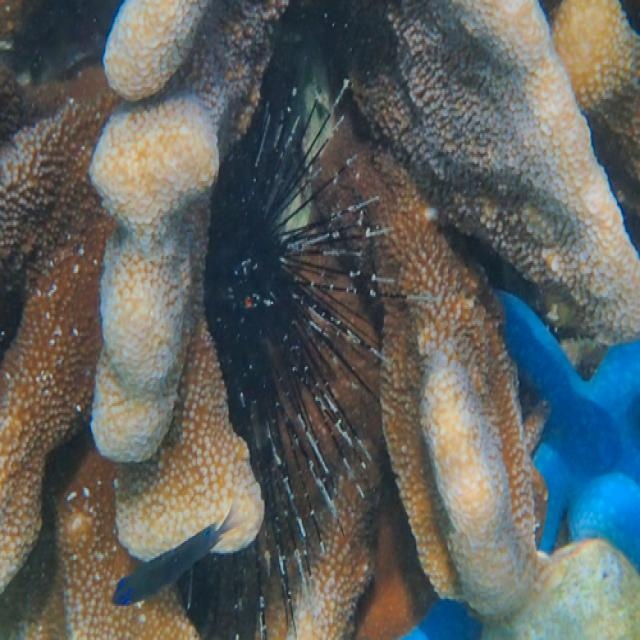Urchin: (206, 77, 407, 623)
